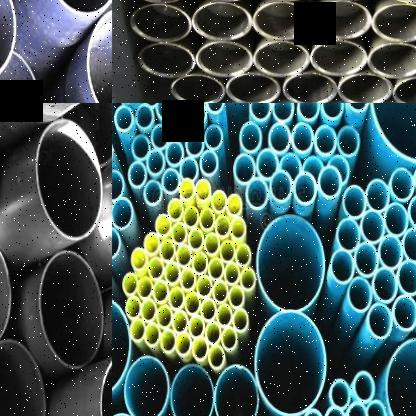pipe: (38, 250, 104, 370), (36, 120, 102, 240), (255, 310, 327, 416), (257, 214, 326, 312), (61, 103, 112, 171), (0, 340, 46, 415), (367, 103, 416, 163), (124, 355, 169, 416), (85, 7, 112, 103), (129, 3, 193, 43), (191, 1, 253, 42), (252, 1, 312, 41), (311, 0, 372, 39), (170, 363, 214, 416), (386, 338, 416, 415), (214, 364, 258, 416), (310, 39, 369, 77), (136, 42, 196, 79), (195, 41, 254, 78), (253, 41, 311, 78), (0, 49, 40, 102), (112, 295, 131, 398), (371, 2, 416, 43), (225, 72, 282, 103), (367, 42, 416, 78), (282, 73, 338, 103), (337, 74, 394, 103), (170, 74, 225, 103), (368, 303, 392, 340), (378, 235, 404, 269), (373, 268, 398, 302), (330, 250, 355, 284), (392, 295, 416, 330), (348, 277, 372, 312), (336, 219, 361, 252), (354, 243, 378, 277), (385, 202, 409, 236), (343, 185, 367, 219), (366, 178, 390, 212), (360, 210, 384, 243), (390, 168, 414, 201), (318, 166, 342, 199), (294, 171, 316, 206), (270, 170, 292, 203), (354, 369, 376, 402), (233, 153, 256, 184), (246, 178, 268, 210), (338, 126, 360, 158), (112, 196, 133, 229), (315, 125, 337, 156), (268, 124, 290, 155), (292, 123, 314, 154), (330, 378, 351, 410), (397, 260, 416, 295), (257, 148, 279, 178), (240, 123, 262, 153), (328, 155, 350, 184), (280, 153, 302, 182), (393, 77, 416, 103), (302, 156, 324, 183), (127, 161, 148, 189), (146, 148, 166, 176), (132, 134, 152, 161), (135, 103, 154, 131), (179, 156, 199, 182), (199, 150, 219, 176), (151, 124, 170, 151), (171, 113, 190, 140), (115, 105, 134, 132), (144, 179, 162, 207), (162, 167, 180, 195), (204, 124, 223, 150), (402, 227, 416, 262), (186, 131, 204, 158), (188, 103, 207, 126), (208, 344, 225, 369), (221, 326, 237, 352), (152, 280, 170, 303), (233, 308, 250, 332), (216, 304, 233, 328), (240, 267, 257, 291), (214, 214, 231, 238), (192, 337, 209, 361), (160, 328, 176, 353), (154, 214, 172, 236), (272, 103, 294, 121), (235, 244, 252, 267), (144, 322, 160, 346), (130, 318, 146, 342), (172, 310, 188, 334), (156, 305, 172, 329), (201, 298, 217, 322), (126, 296, 142, 320), (137, 276, 153, 300), (122, 272, 138, 296), (180, 268, 196, 292), (208, 257, 224, 281), (196, 178, 212, 202), (321, 103, 345, 119), (230, 217, 247, 239), (199, 208, 216, 230), (298, 103, 320, 120), (112, 171, 124, 202), (141, 299, 157, 322), (196, 275, 212, 298), (224, 262, 240, 285), (164, 262, 180, 285), (148, 257, 164, 280), (192, 252, 208, 275), (131, 248, 147, 271), (204, 233, 220, 256), (144, 233, 160, 256), (188, 228, 204, 251), (167, 198, 183, 221), (227, 193, 243, 216), (176, 332, 192, 355), (250, 103, 270, 121), (205, 322, 221, 344), (188, 316, 204, 338), (185, 293, 201, 315), (168, 287, 184, 309), (229, 286, 245, 308), (176, 244, 192, 266), (160, 240, 176, 262), (179, 178, 195, 200), (213, 280, 228, 303), (171, 223, 187, 244), (220, 240, 235, 262), (184, 206, 199, 228), (366, 400, 386, 416), (212, 190, 226, 212), (156, 103, 174, 120), (346, 403, 368, 416), (112, 226, 120, 261), (408, 194, 416, 227), (205, 103, 225, 113), (347, 103, 370, 111), (174, 103, 193, 111)
